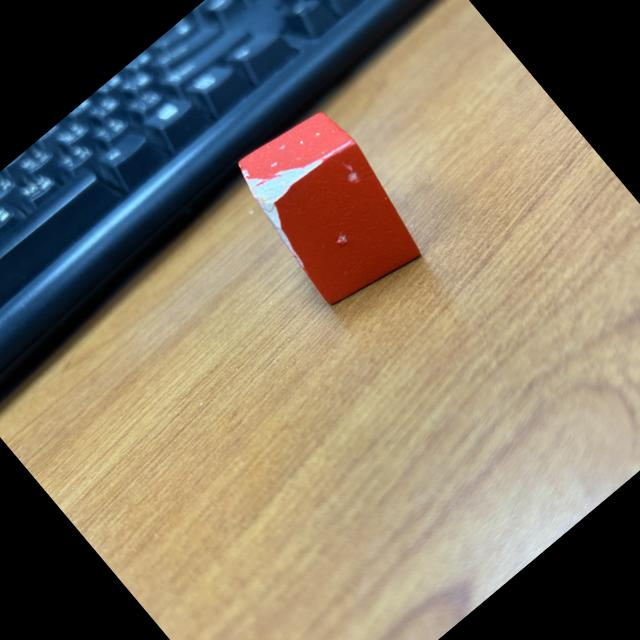broken: (219, 93, 439, 321)
